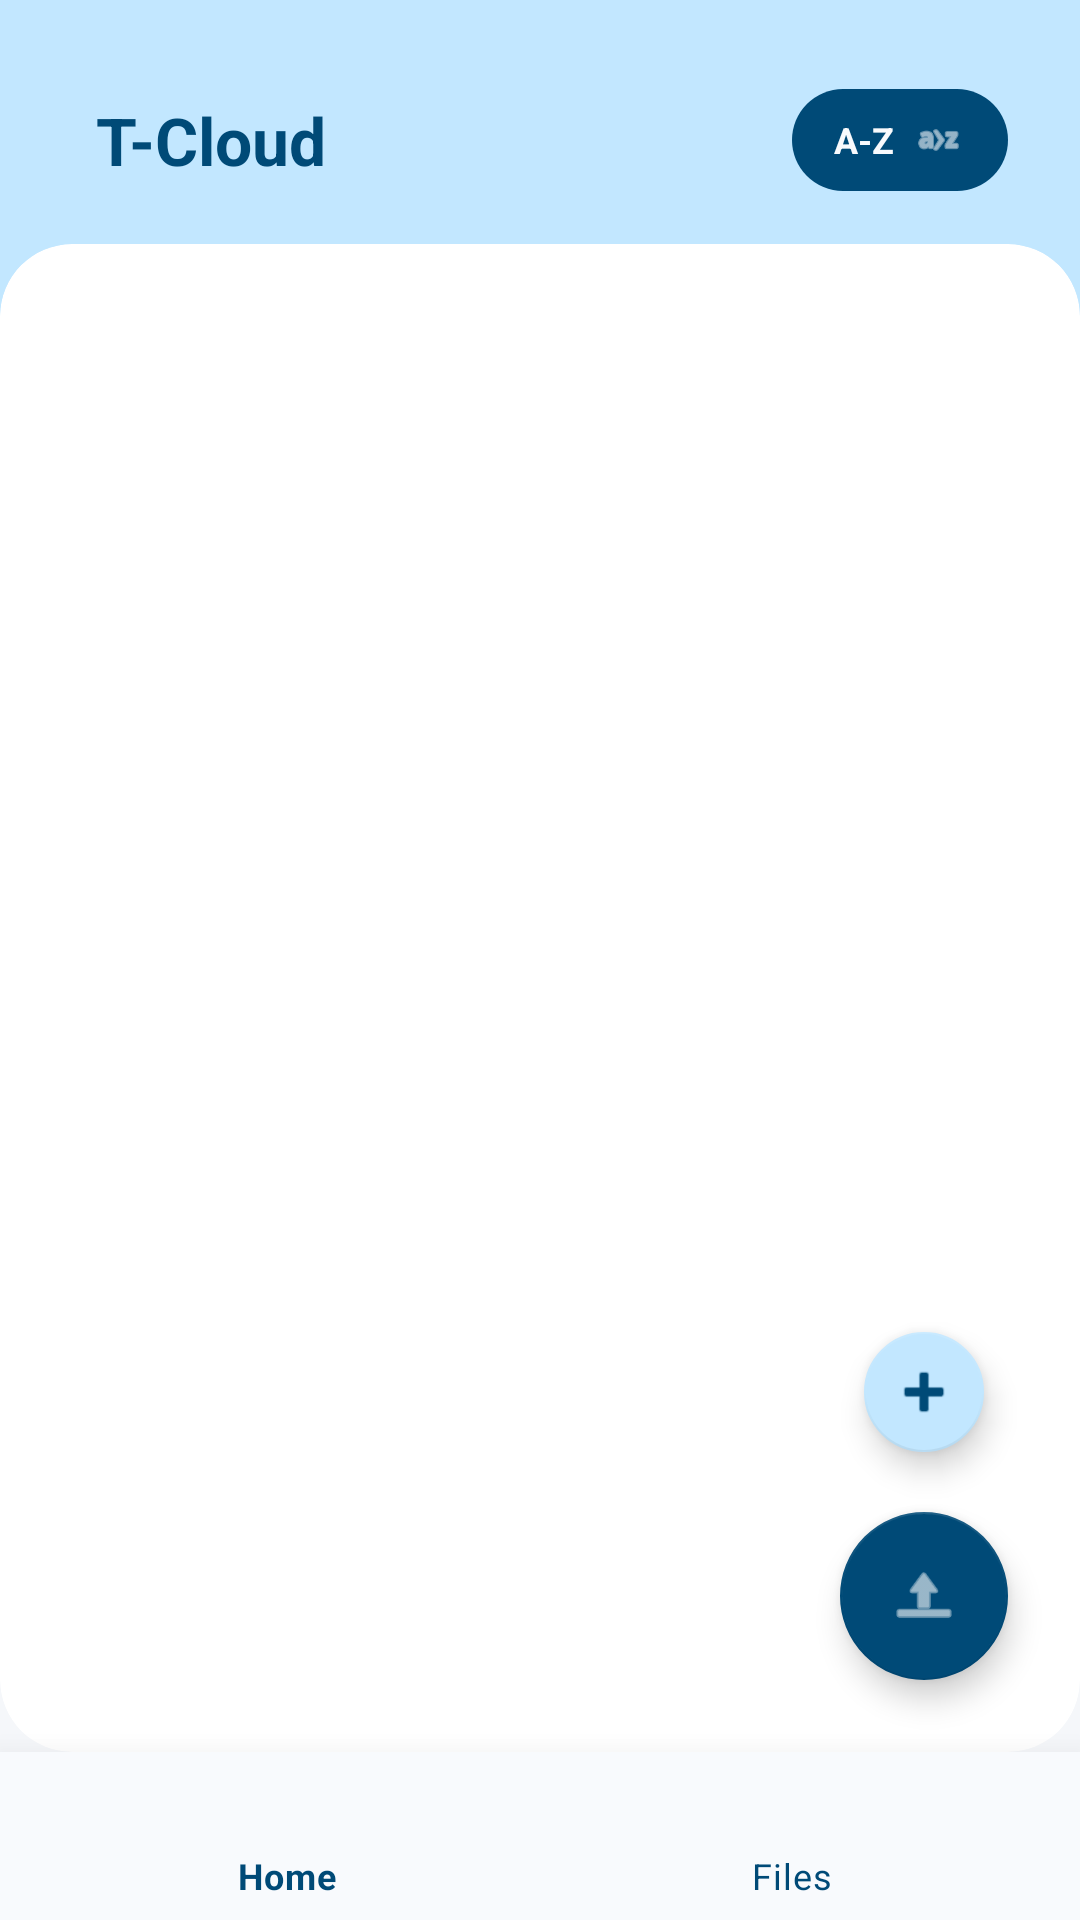

Screen size 1080×1920. Icon name, then its box in pixels as box(x1, y1, x2, y2):
add: box(864, 1332, 986, 1464)
upload: box(840, 1512, 1008, 1680)
